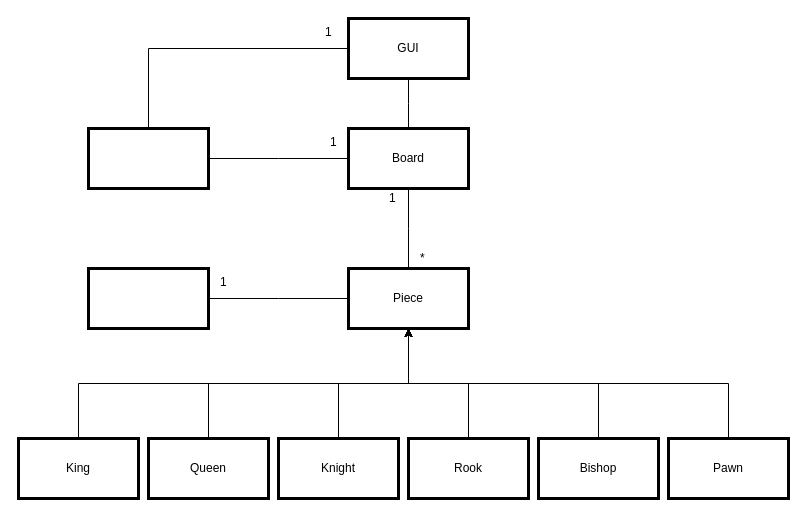
Image size: 807x517. Some labels were removed from this diagram. Each missing label, with the centre of its shape:
"Colour" goes at [148,298].
"Main" goes at [148,158].
